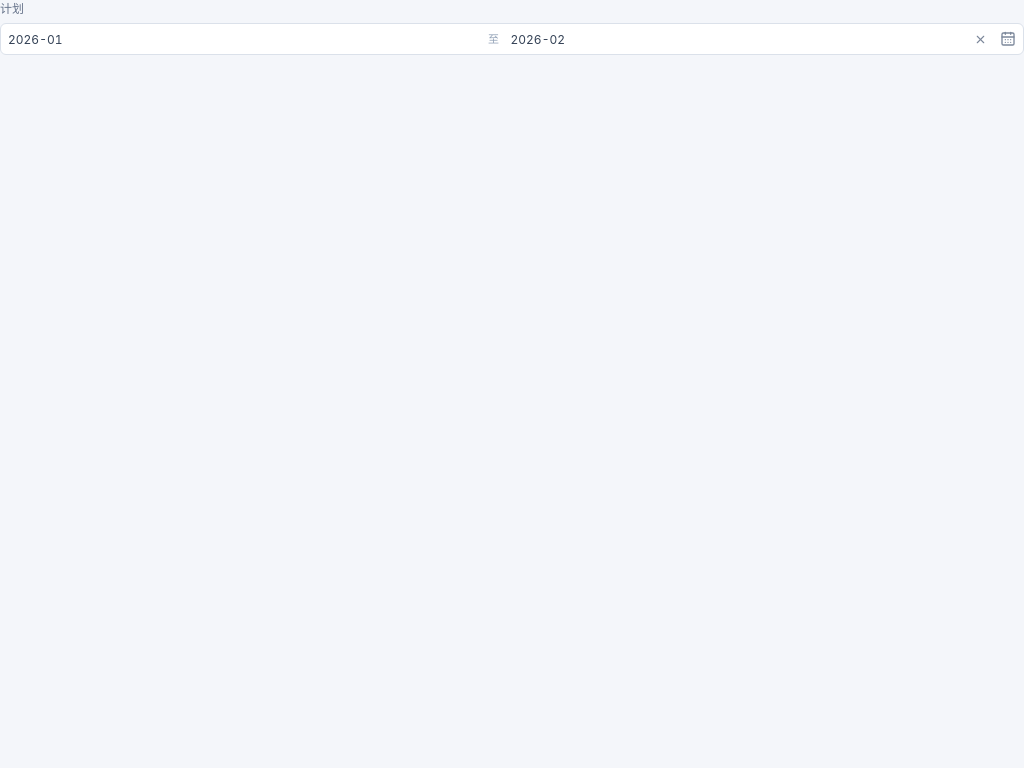
Scenario: custom temporal popover interactions › allows equal month range boundaries without dropping either endpoint
What coordinates should you click on to do the following:
click the button named "选择计划"
I would click on:
 (1008, 39)
Its box is [994,25,1022,53].
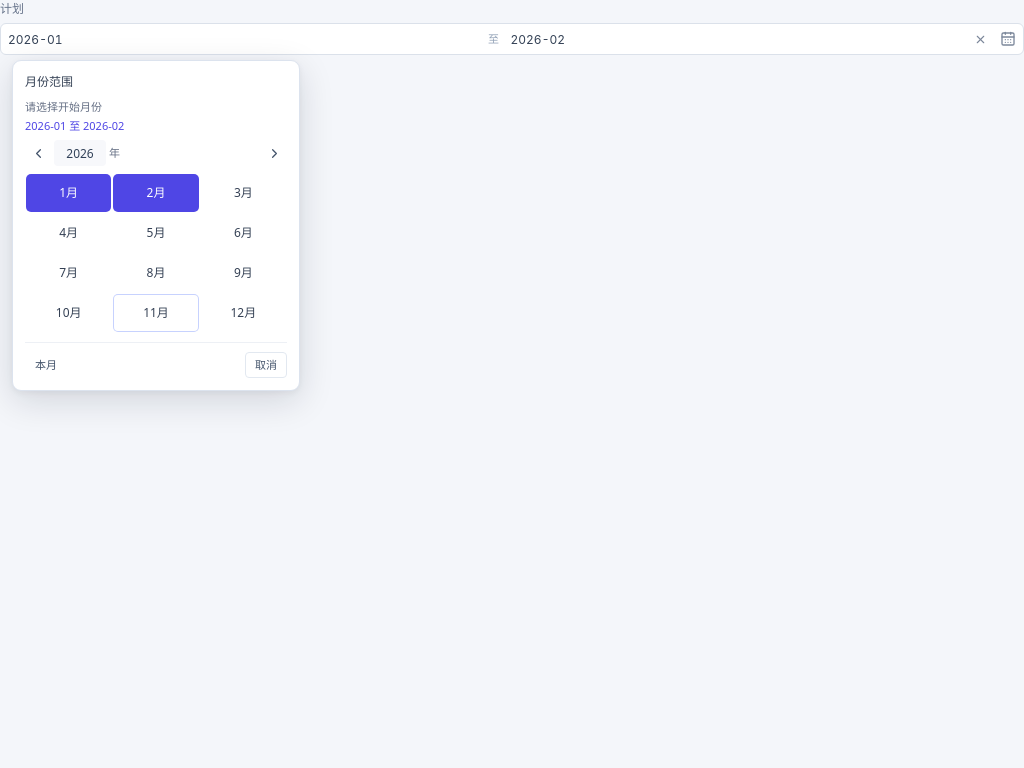
What coordinates should you click on to do the following:
click the button named "2026-11"
I would click on:
 (156, 313)
Its box is [113,294,199,332].
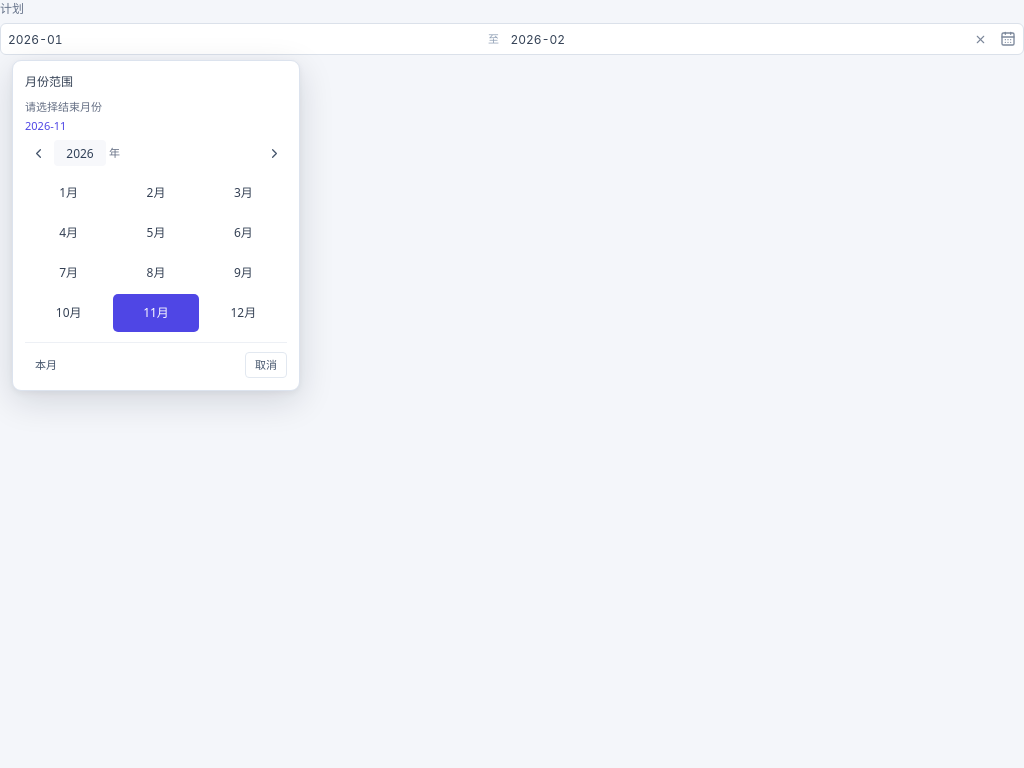
What coordinates should you click on to do the following:
click the button named "2026-11"
I would click on:
 (156, 313)
Its box is [113,294,199,332].
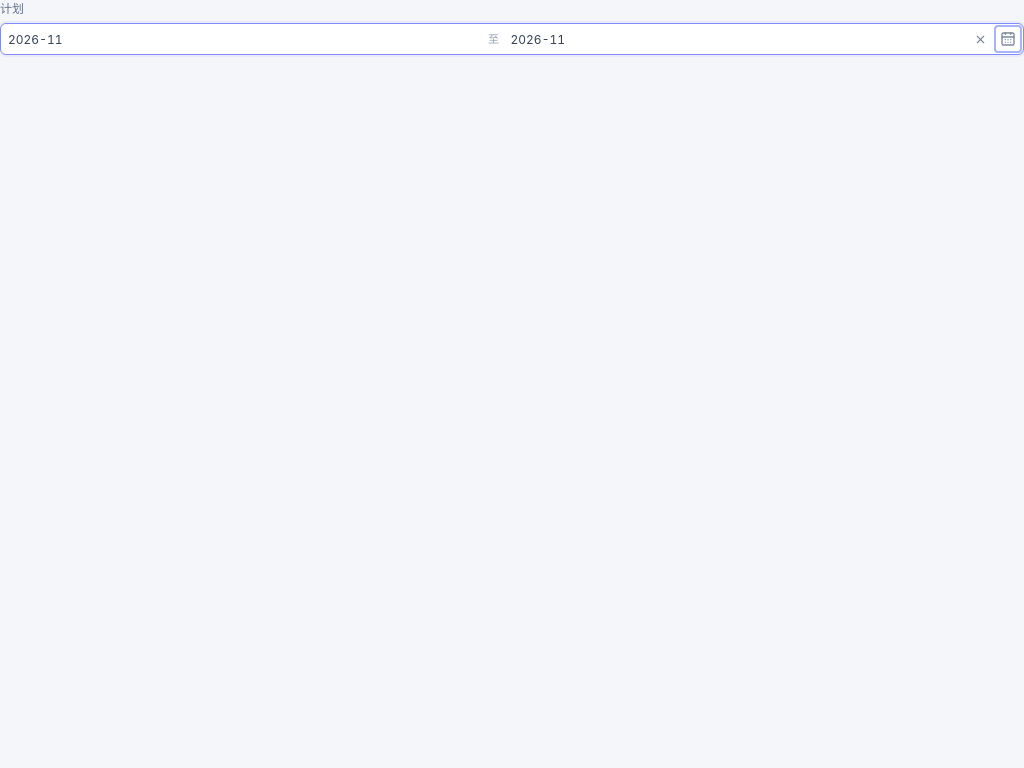
Result: the message is gone
Result: the dialog is gone
